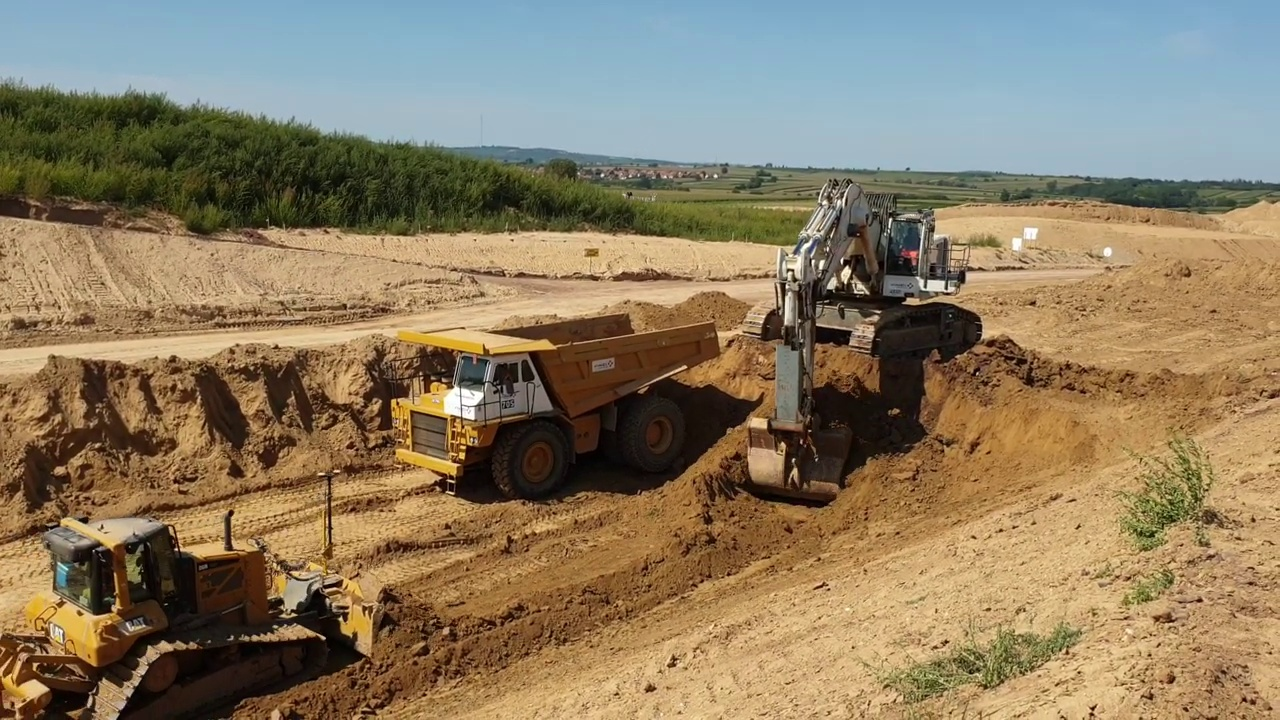bulldozer: (4, 464, 397, 720)
excavator: (735, 171, 987, 509)
truck: (377, 310, 728, 506)
